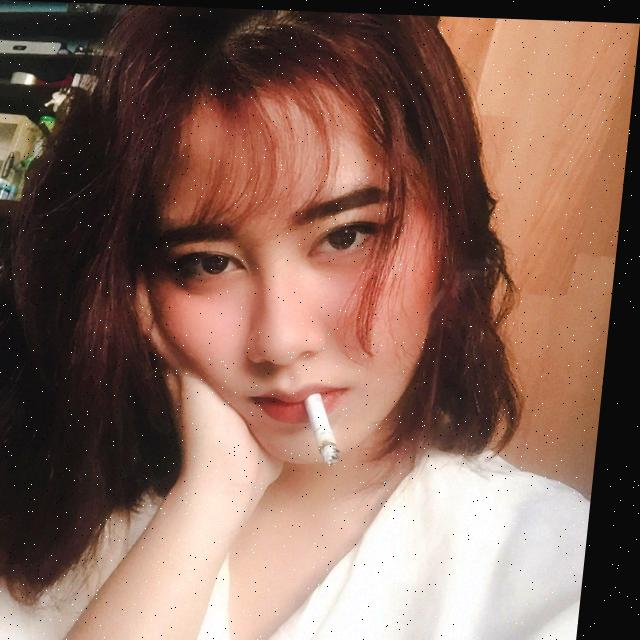cigarette: (307, 391, 355, 465)
